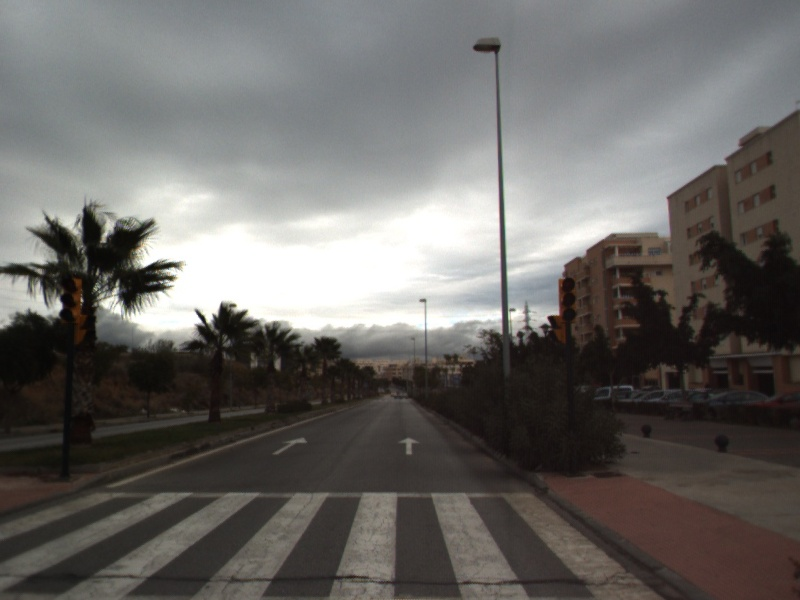STRAIGHT: (270, 435, 310, 456), (396, 435, 422, 456)
